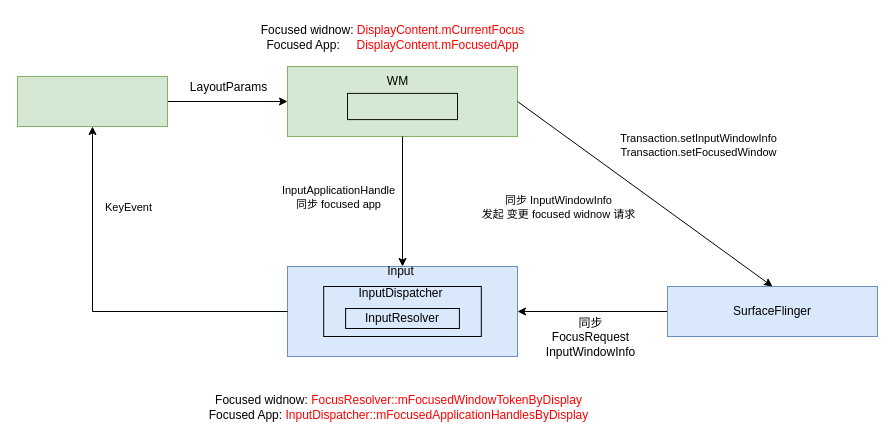
The diagram is 895 pixels wide and 444 high, and some of its shapes have lost their labels. Here are the shapes that lost their labels. From the top down, the centre of each, then its label:
At (92,101): "Application".
At (402,106): "DisplayContent".
